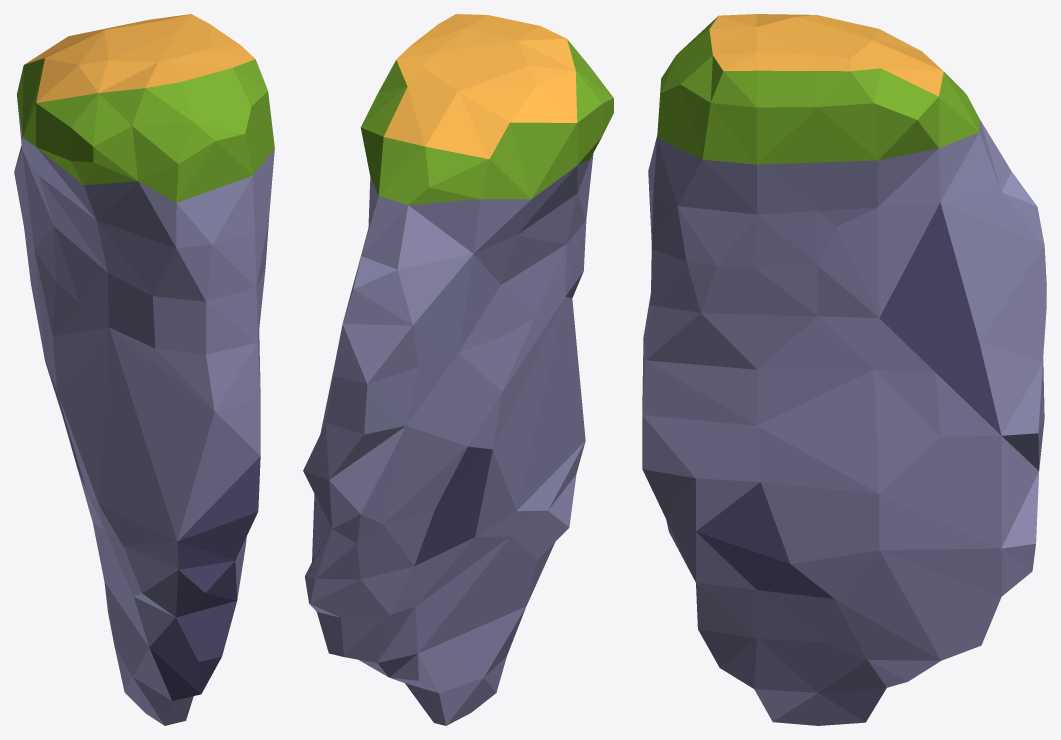
File: Island-005.fbx
3 renders of one model, left to right at view 1: azimuth 30°, elevation 25°; view 2: azimuth 150°, elevation 25°; view 3: azimuth 270°, elevation 25°, orthographic. The views are drawn at different scales.
Visible parts, largest first — view 1: Cube.001; view 2: Cube.001; view 3: Cube.001.
Part boxes in pixels (box(x1,y1,x2,y2)): Cube.001: box(14, 14, 274, 725); Cube.001: box(303, 14, 613, 725); Cube.001: box(642, 14, 1046, 725).
Size of the model in its own units: 728 by 2468 by 1324.
